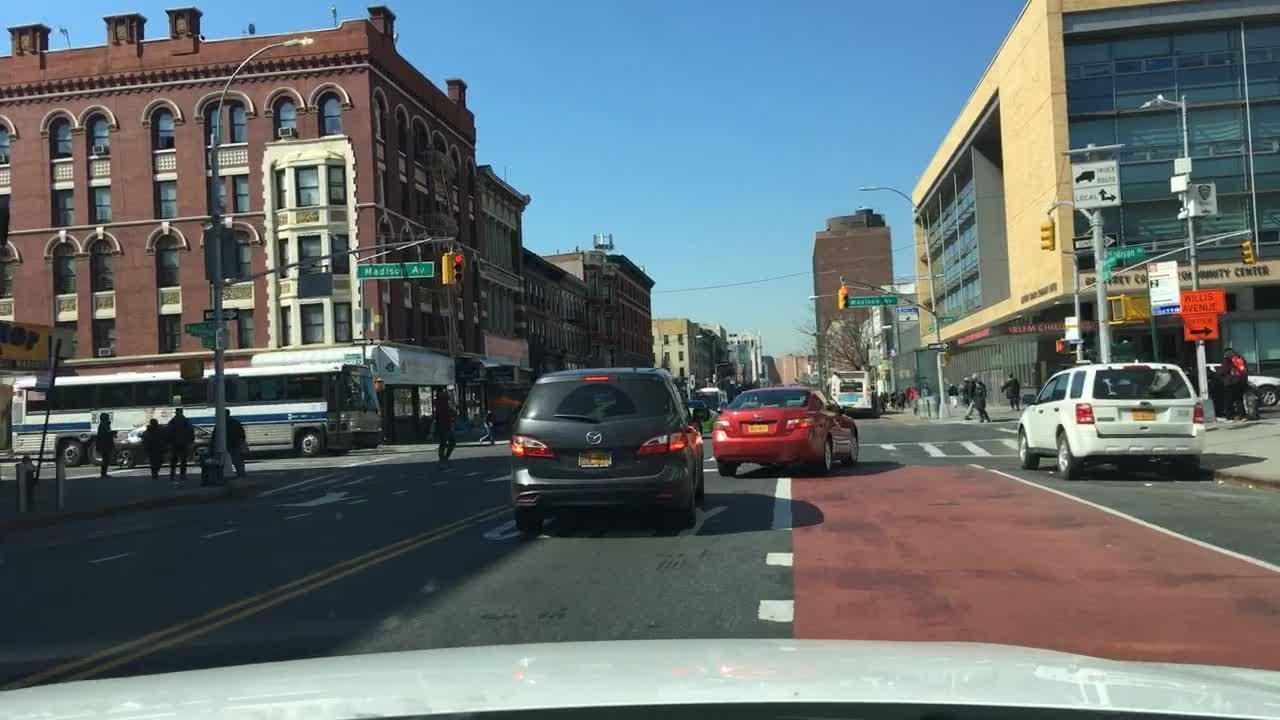Mazda: (583, 428, 606, 448)
